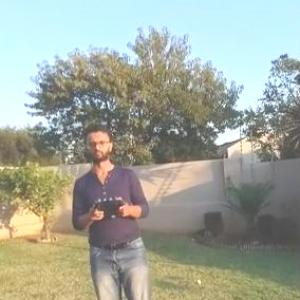follow: (68, 119, 160, 299)
